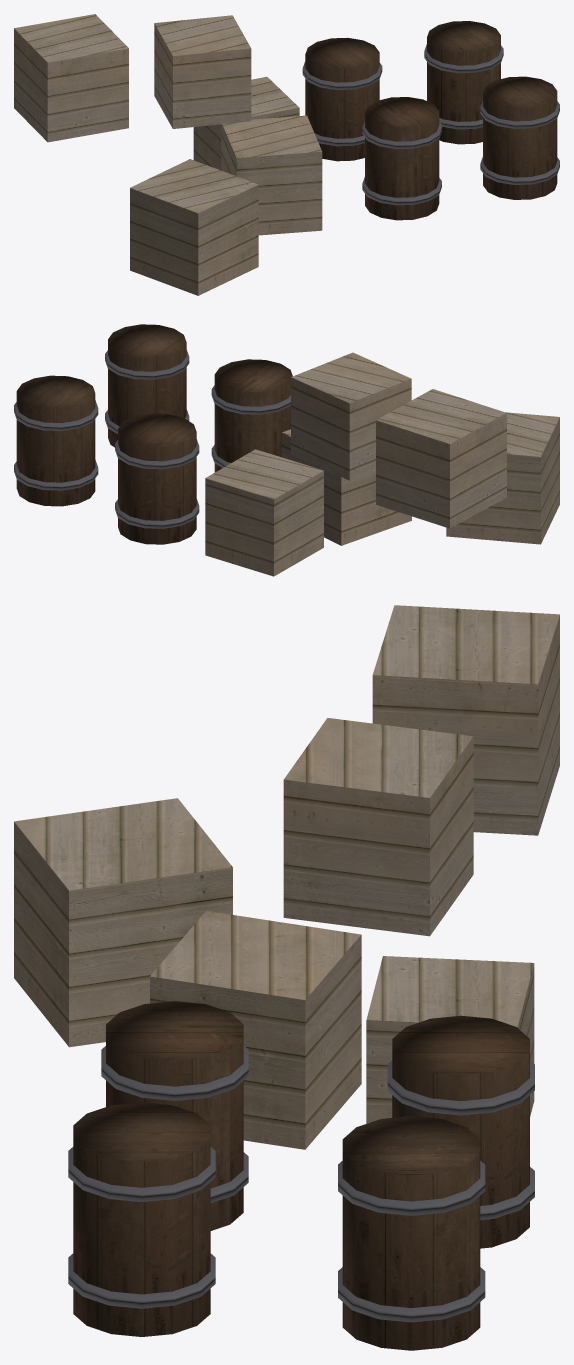
The model's file is crates.glb.
The picture shows the model from 3 angles, top to bottom: view 1: azimuth 30°, elevation 25°; view 2: azimuth 150°, elevation 25°; view 3: azimuth 270°, elevation 25°; orthographic projection. The views are drawn at different scales.
Parts seen in each view (by area): view 1: crates; view 2: crates; view 3: crates.
Part boxes in pixels (box(x1,y1,x2,y2)): crates: box(14, 14, 559, 295); crates: box(14, 324, 559, 576); crates: box(14, 605, 559, 1350).
Size of the model in its own units: 5.93 by 2.14 by 3.25.
3 materials, 2 textured.
